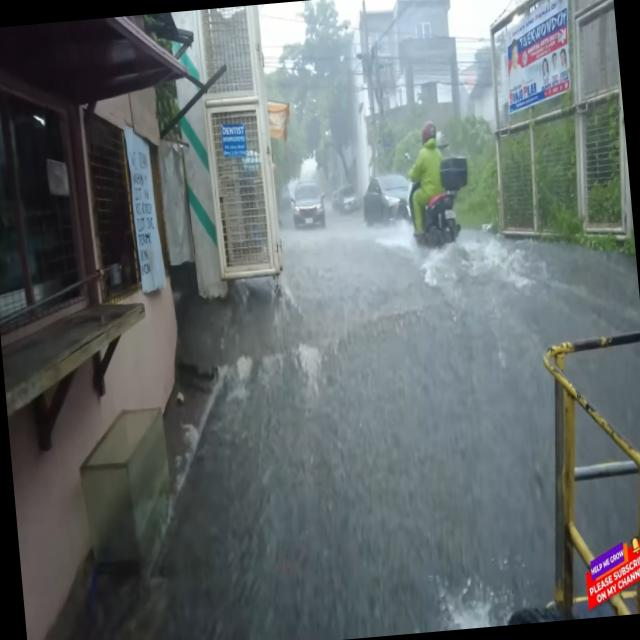full: (414, 116, 441, 150)
